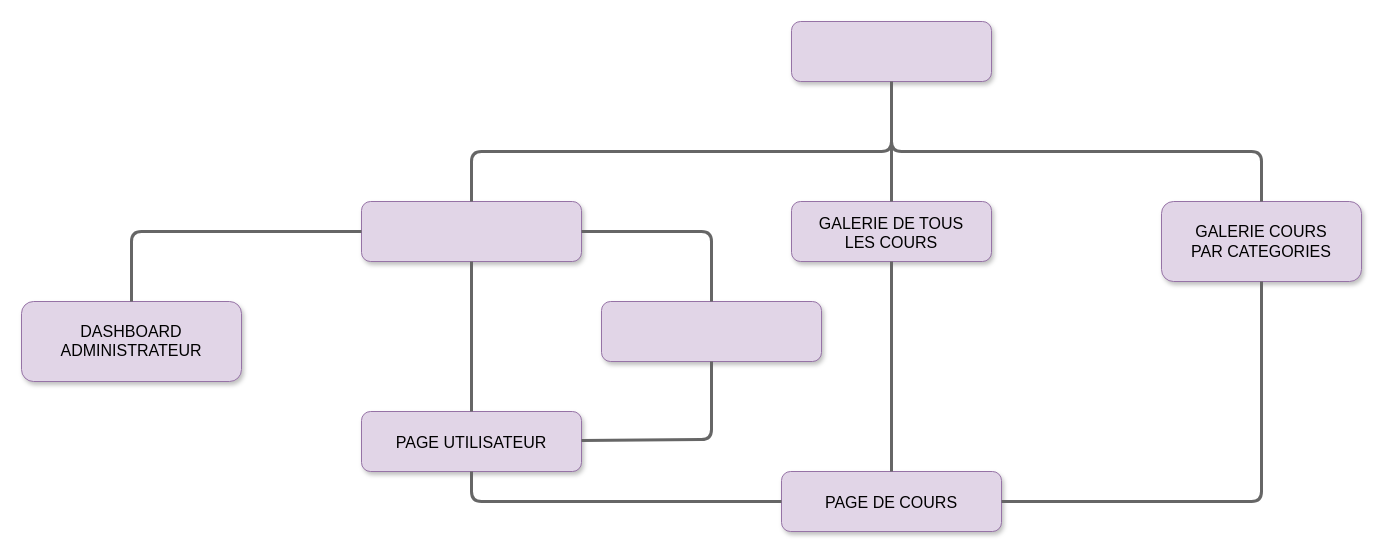
Image size: 1385x556. Some labels were removed from this diagram. Here are the shapes that lost their labels. From the top down, the centre of each, then its label:
point (892, 52): ACCUEIL
point (472, 232): CONNEXION
point (712, 332): INSCRIPTION
